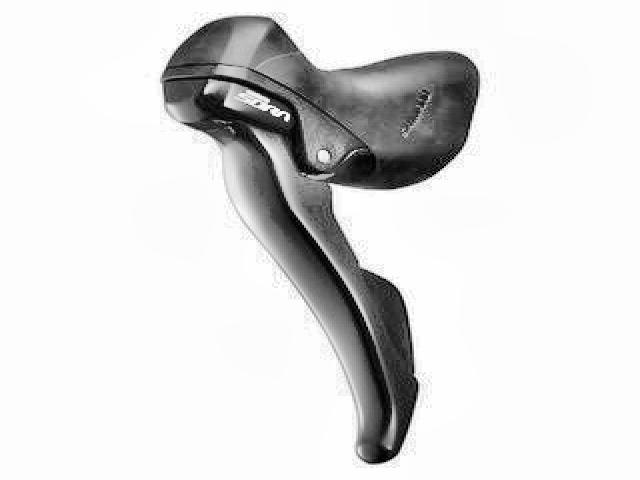sti_shifter: (156, 15, 484, 466)
